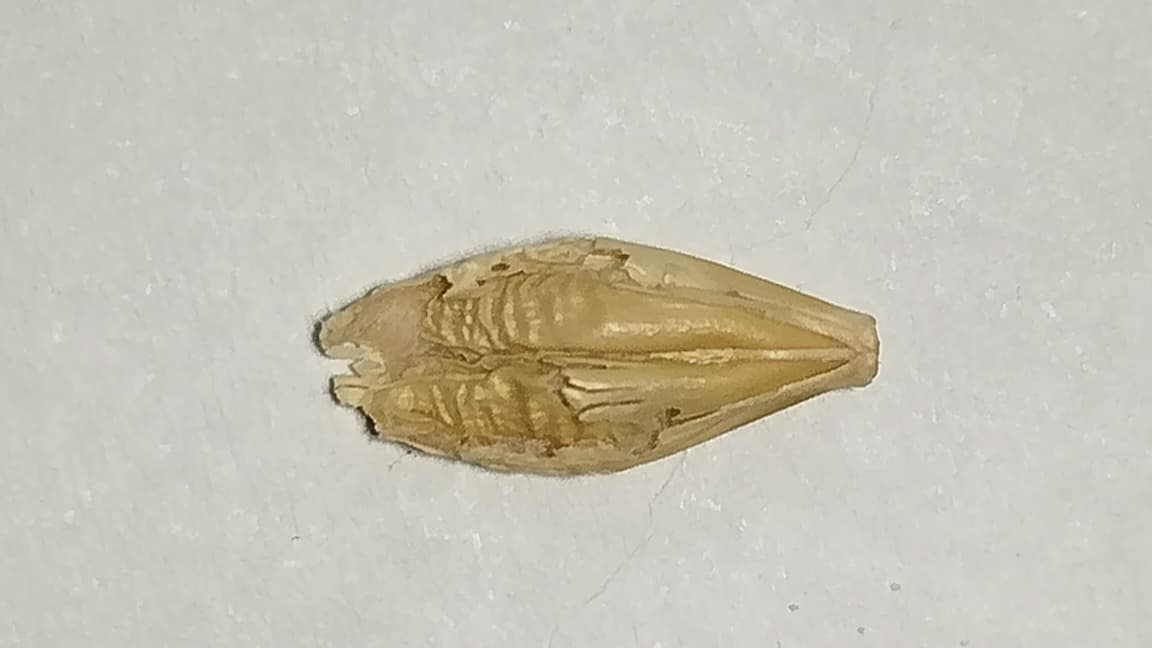damage: (322, 238, 877, 474)
insectdamage: (574, 385, 713, 471), (443, 237, 630, 296), (308, 307, 386, 442)
shriveledseed: (405, 278, 555, 455)
